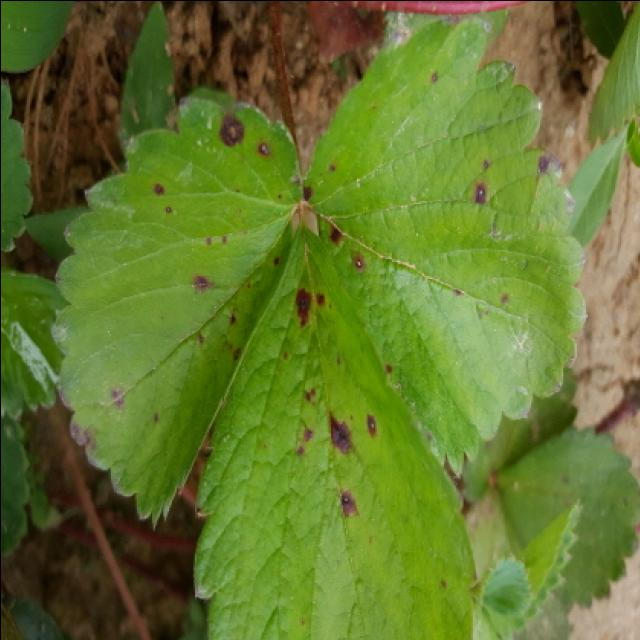Leaf Spot: (304, 14, 588, 480), (192, 223, 479, 640), (48, 85, 304, 532), (489, 425, 640, 613)
